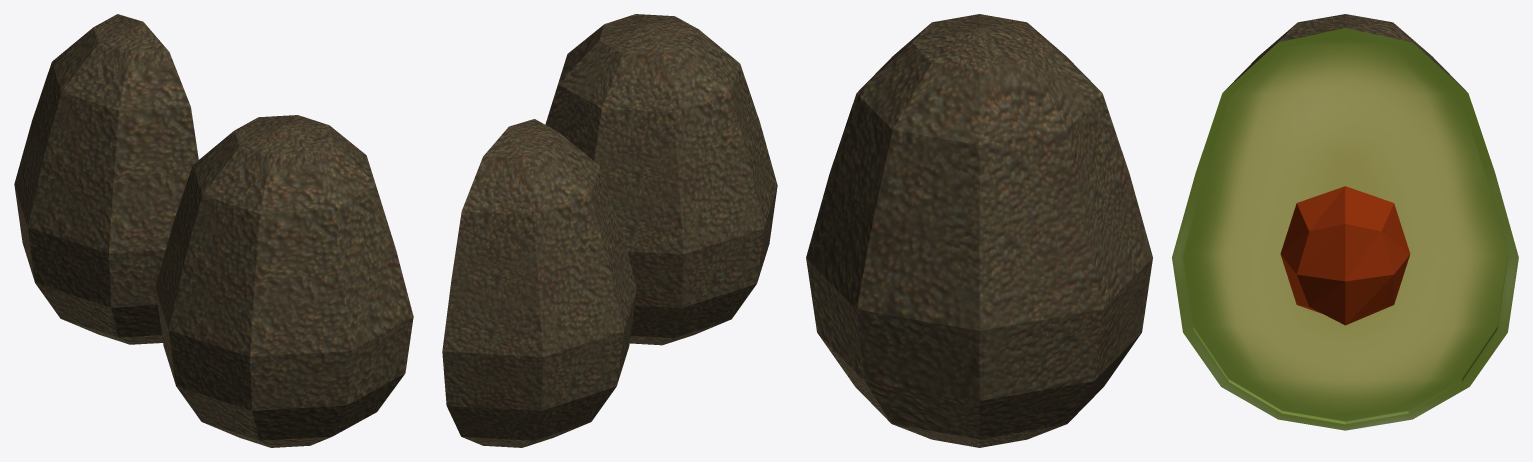
3 renders of one model, left to right at view 1: azimuth 30°, elevation 25°; view 2: azimuth 150°, elevation 25°; view 3: azimuth 270°, elevation 25°, orthographic. The views are drawn at different scales.
Visible parts, largest first — view 1: Node; view 2: Node; view 3: Node.
Part boxes in pixels (x1,y1,x2,y2): Node: (14, 14, 413, 447); Node: (442, 14, 777, 447); Node: (806, 14, 1518, 447).
Size of the model in its own units: 1.97 by 2.53 by 4.05.
3 materials, 2 textured.
